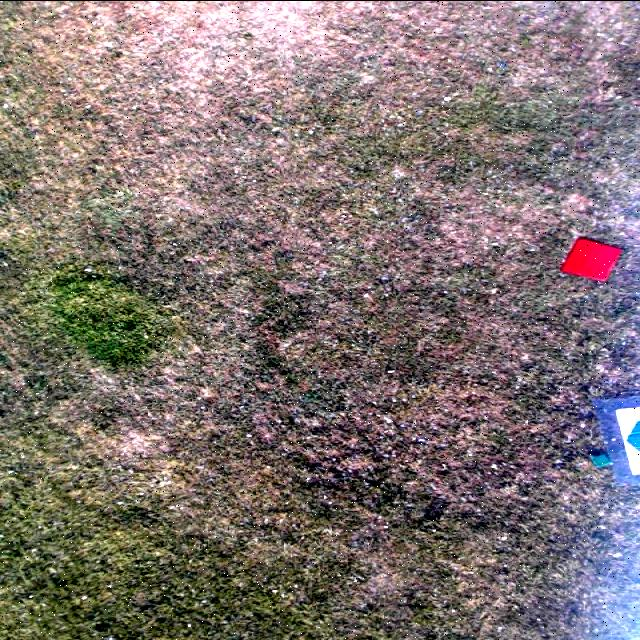red_square: (560, 238, 622, 280)
